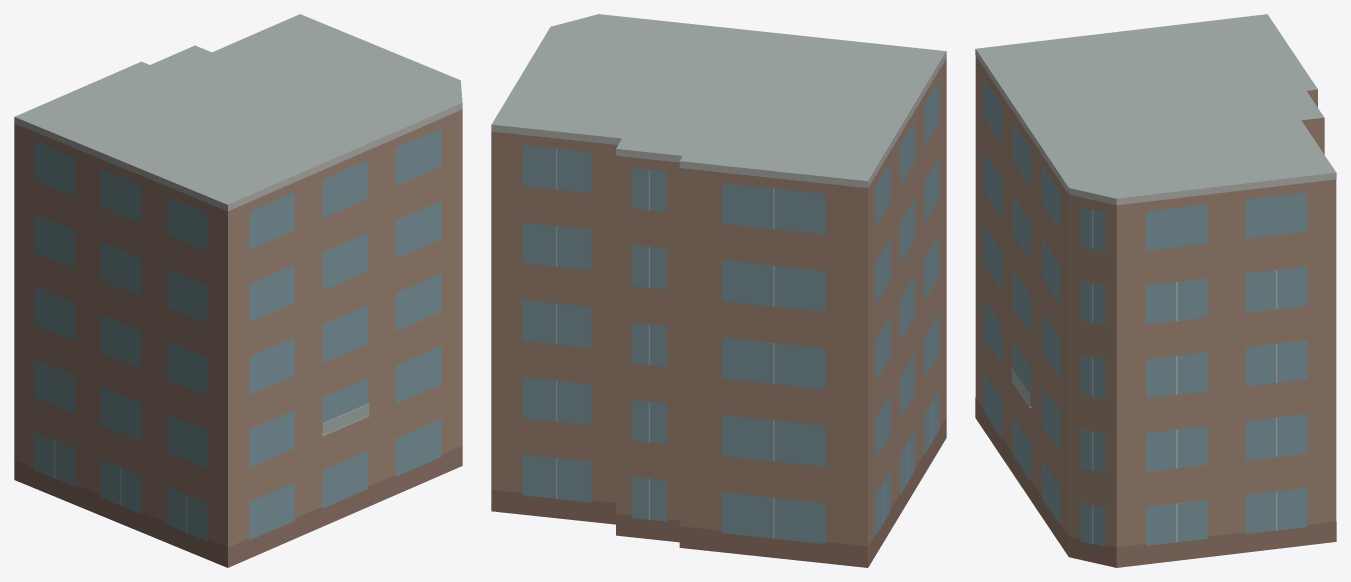
File: survey-upis-32927213.glb
The picture shows the model from 3 angles, left to right: view 1: azimuth 30°, elevation 25°; view 2: azimuth 150°, elevation 25°; view 3: azimuth 270°, elevation 25°; orthographic projection. The views are drawn at different scales.
Visible parts, largest first — view 1: survey-upis-32927213.tmp; view 2: survey-upis-32927213.tmp; view 3: survey-upis-32927213.tmp.
Part boxes in pixels (bbox=[...]): survey-upis-32927213.tmp: bbox=[14, 14, 462, 567]; survey-upis-32927213.tmp: bbox=[491, 14, 946, 567]; survey-upis-32927213.tmp: bbox=[975, 14, 1336, 567].
Bounding box in the file's own units: 14.61 × 13.6 × 12.06.
